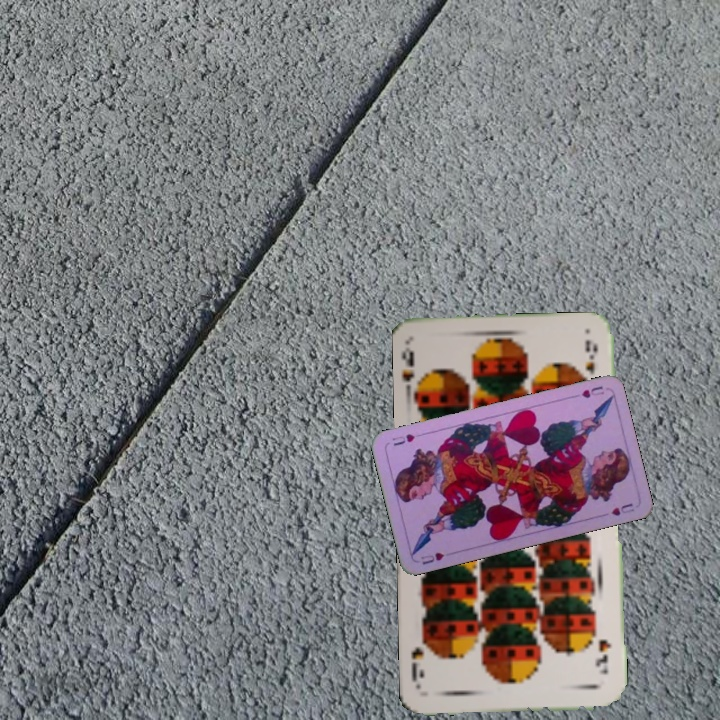HU: (568, 382, 607, 401), (417, 548, 447, 567)
S9: (399, 343, 427, 400), (592, 636, 613, 677)
